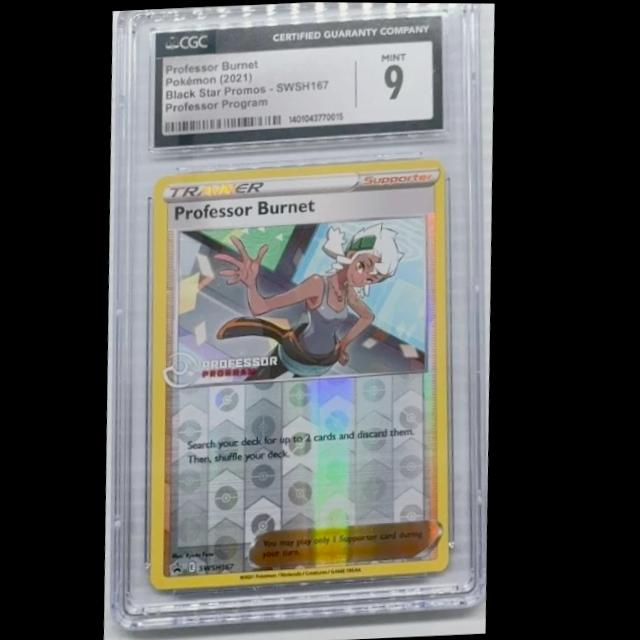card: (155, 156, 458, 591)
cgc_label: (155, 15, 446, 149)
cgc_slab: (115, 2, 494, 632)
